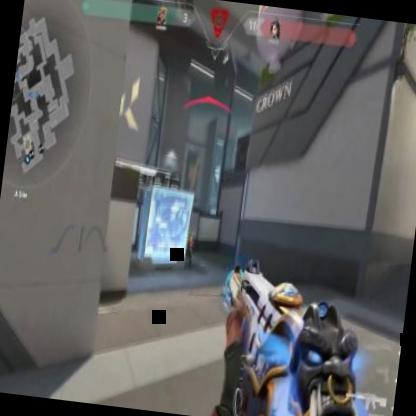enemy: (182, 230, 196, 268)
enemy_head: (189, 232, 193, 240)
